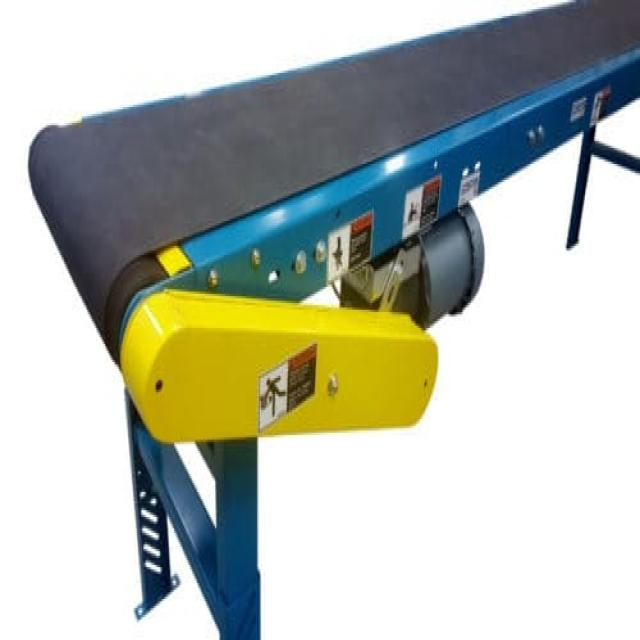conveyor: (25, 2, 640, 580)
